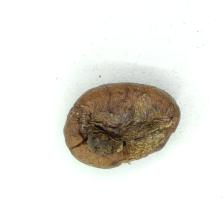NG: (80, 90, 173, 165)
